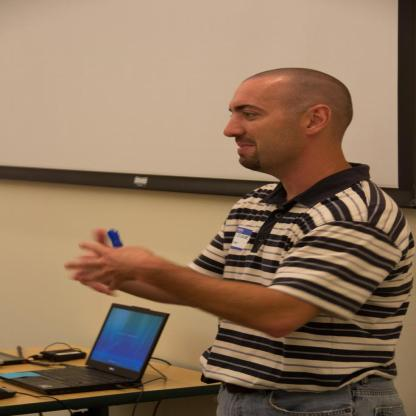board: (0, 303, 171, 395)
